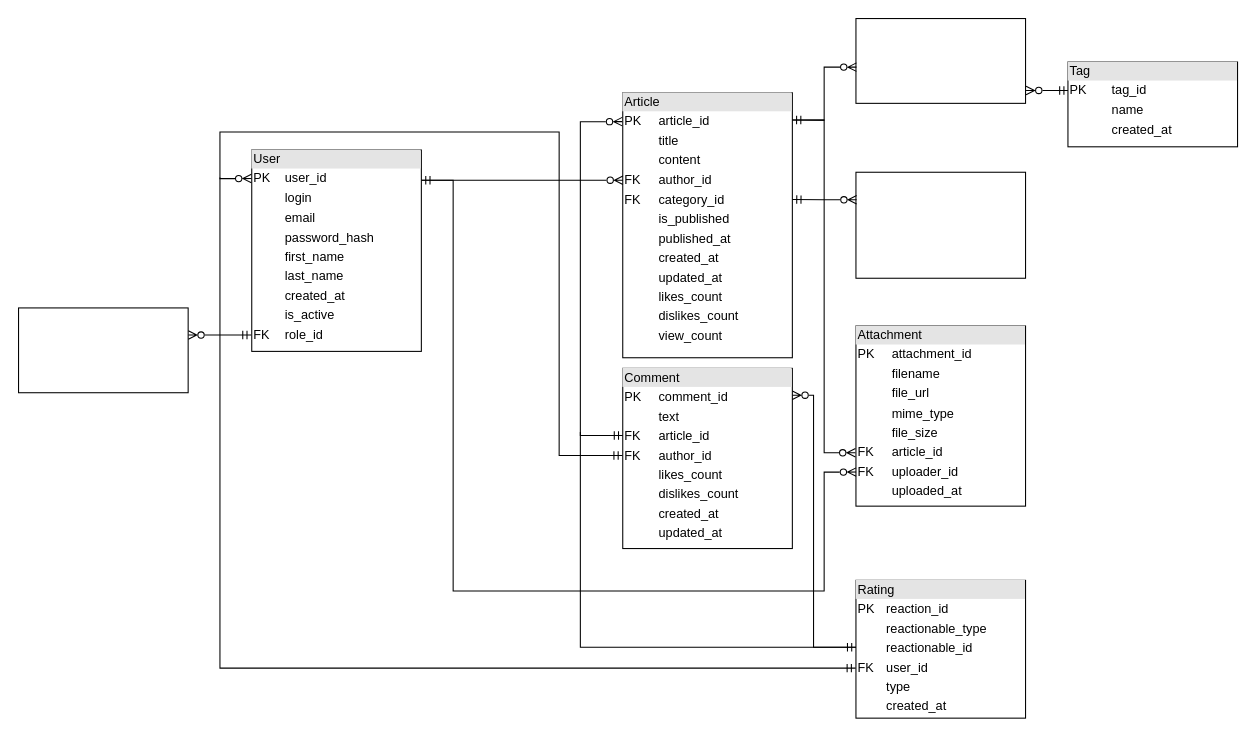
Some shapes in this 1256 by 737 pixel diagram are drawn without their labels. The box of each missing label's shape, as (x1, y1, x2, y2) in pixels:
Article_Tag PK article_tag_id FK article_id FK tag_id: (855, 17, 1026, 103)
Category PK category_id name description created_at: (855, 171, 1026, 278)
Role PK role_id name description: (17, 307, 188, 393)
